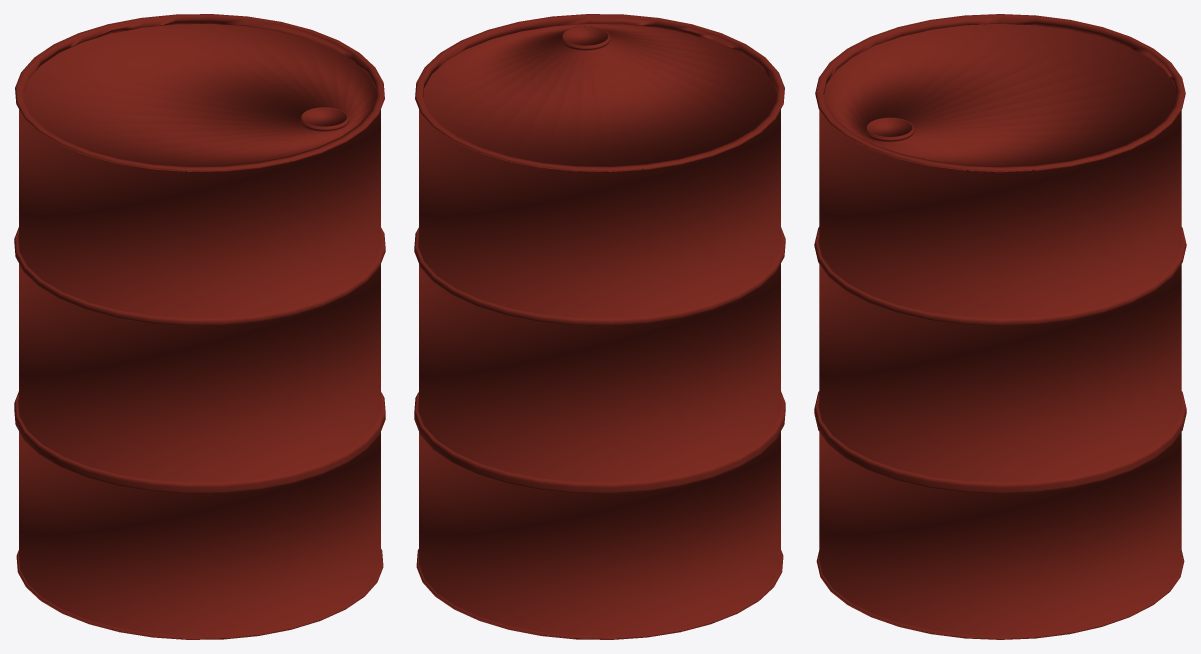
File: Barrel.fbx
3 views of the same model, side by side, from view 1: azimuth 30°, elevation 25°; view 2: azimuth 150°, elevation 25°; view 3: azimuth 270°, elevation 25° (orthographic).
Visible parts, largest first — view 1: Cylinder; view 2: Cylinder; view 3: Cylinder.
Part boxes in pixels (left/top/right/bottom): Cylinder: left=14, top=14, right=385, bottom=639; Cylinder: left=414, top=14, right=785, bottom=639; Cylinder: left=814, top=14, right=1186, bottom=639.
Bounding box in the file's own units: 472 × 660 × 472.
